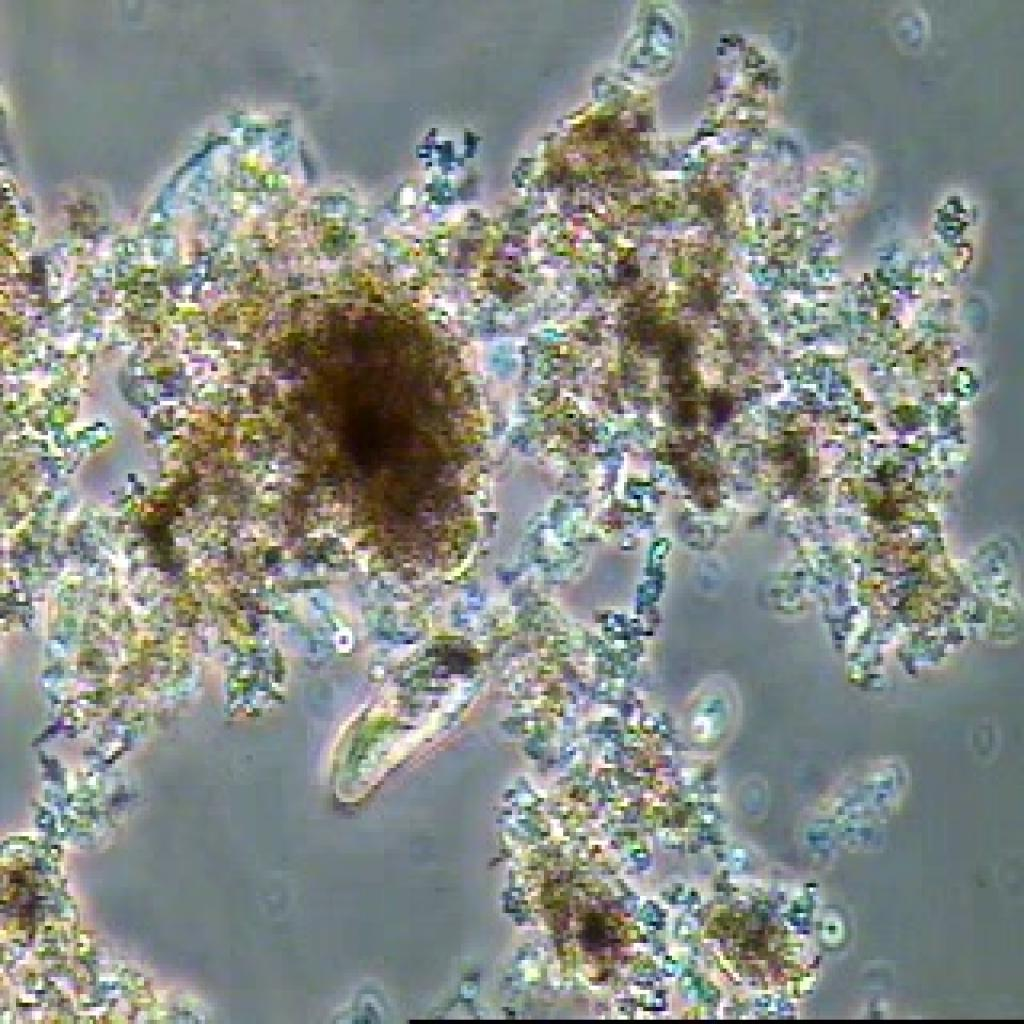Paramecium: (312, 642, 491, 826)
